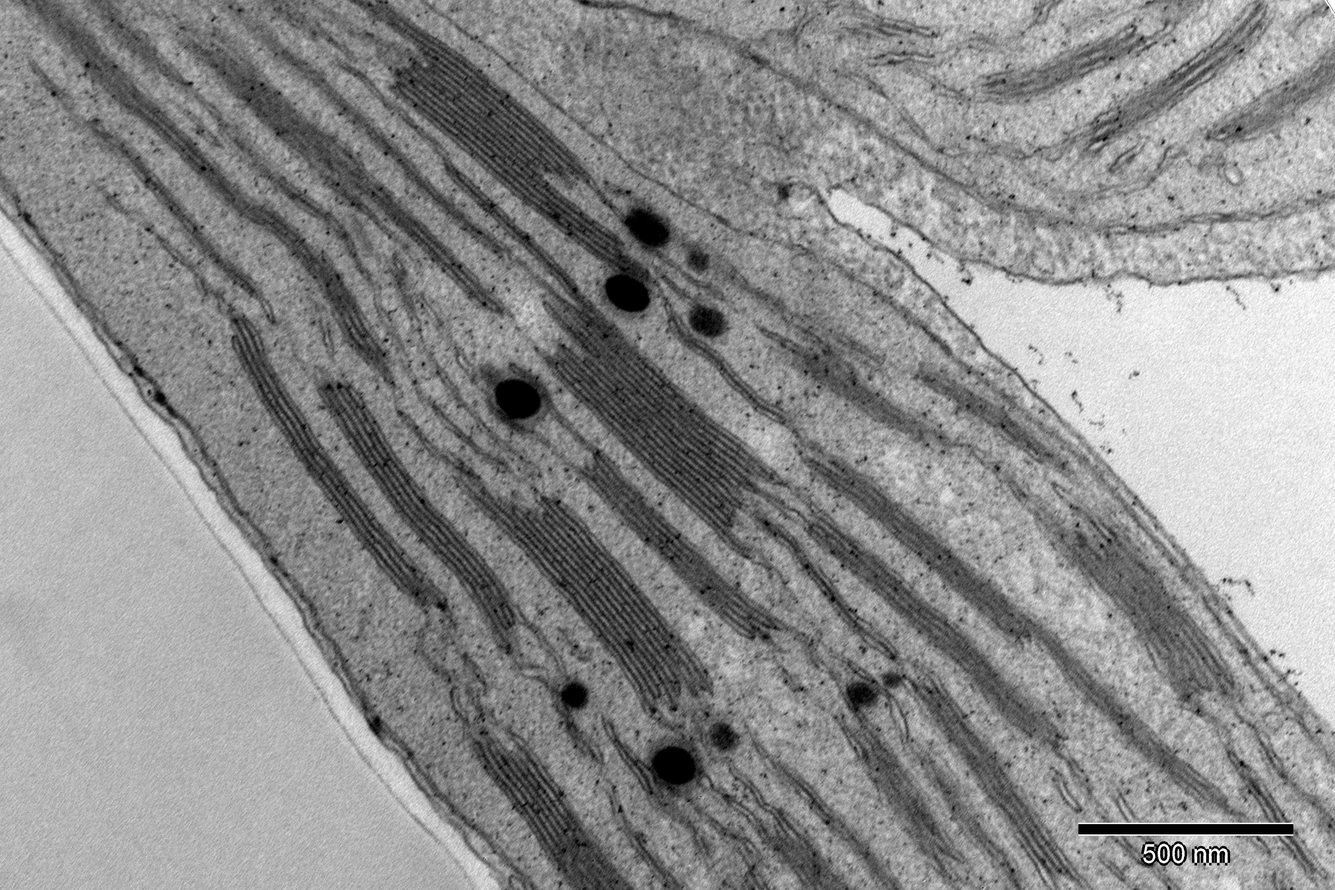granum: (793, 437, 1229, 813), (92, 58, 388, 373), (202, 37, 483, 302), (350, 3, 626, 269), (229, 317, 449, 615), (454, 469, 715, 709), (803, 506, 1059, 748), (540, 292, 775, 540), (316, 378, 528, 644), (1029, 497, 1238, 707), (575, 447, 771, 642), (908, 666, 1074, 879), (1082, 0, 1280, 154), (463, 716, 638, 889), (968, 22, 1159, 107), (844, 719, 950, 853), (1203, 44, 1334, 140), (760, 806, 854, 890), (843, 11, 943, 50)
